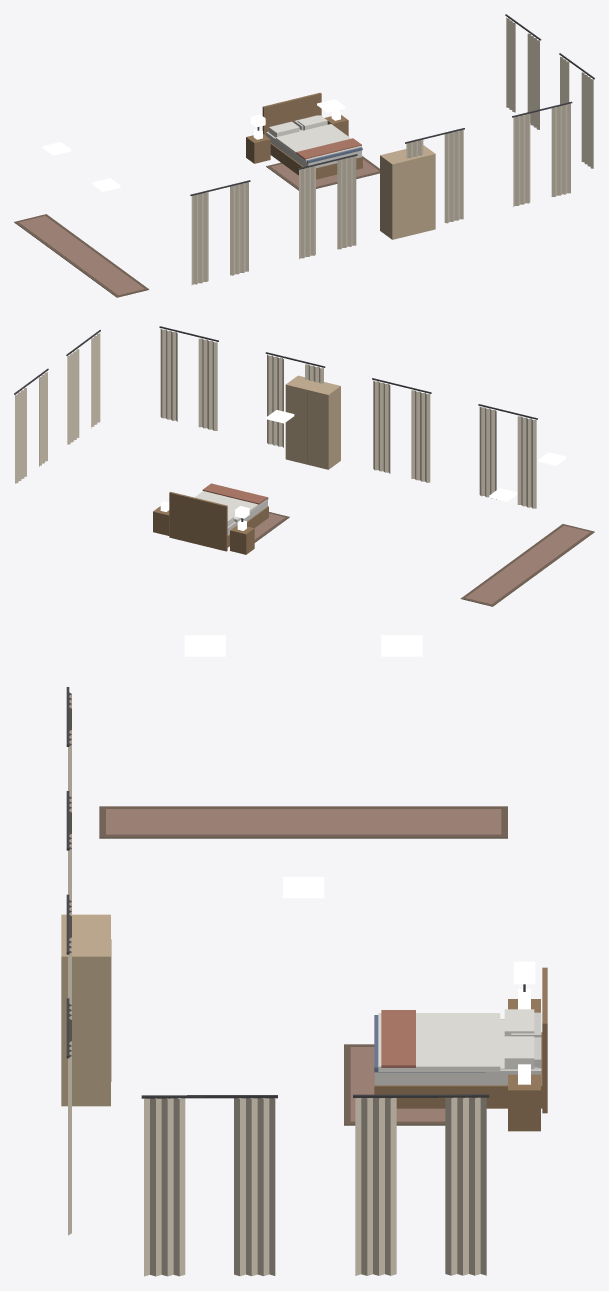
The model's file is fine-s4.glb.
3 renders of one model, top to bottom at view 1: azimuth 30°, elevation 25°; view 2: azimuth 150°, elevation 25°; view 3: azimuth 270°, elevation 25°, orthographic. The views are drawn at different scales.
Visible parts, largest first — view 1: soft-s4, dresser.003, bed-frame.003, nightstand.006; view 2: soft-s4, dresser.003, bed-frame.003, nightstand.006, nightstand.007; view 3: soft-s4, dresser.003, bed-frame.003, nightstand.007, ceiling-lamp.011, ceiling-lamp.012, ceiling-lamp.013.
Boxes of the visible parts, <box> form: soft-s4: <box>14,14,594,297</box>; dresser.003: <box>380,145,435,239</box>; bed-frame.003: <box>262,92,362,179</box>; nightstand.006: <box>246,128,270,163</box>; soft-s4: <box>14,326,594,606</box>; dresser.003: <box>285,375,340,469</box>; bed-frame.003: <box>169,491,268,551</box>; nightstand.006: <box>230,520,254,554</box>; nightstand.007: <box>153,501,169,535</box>; soft-s4: <box>66,687,537,1276</box>; dresser.003: <box>61,914,111,1106</box>; bed-frame.003: <box>374,967,547,1113</box>; nightstand.007: <box>508,1064,540,1131</box>; ceiling-lamp.011: <box>381,635,422,656</box>; ceiling-lamp.012: <box>184,635,225,656</box>; ceiling-lamp.013: <box>283,877,324,898</box>.
Size of the model in its own units: 13.55 by 2.46 by 5.89.
